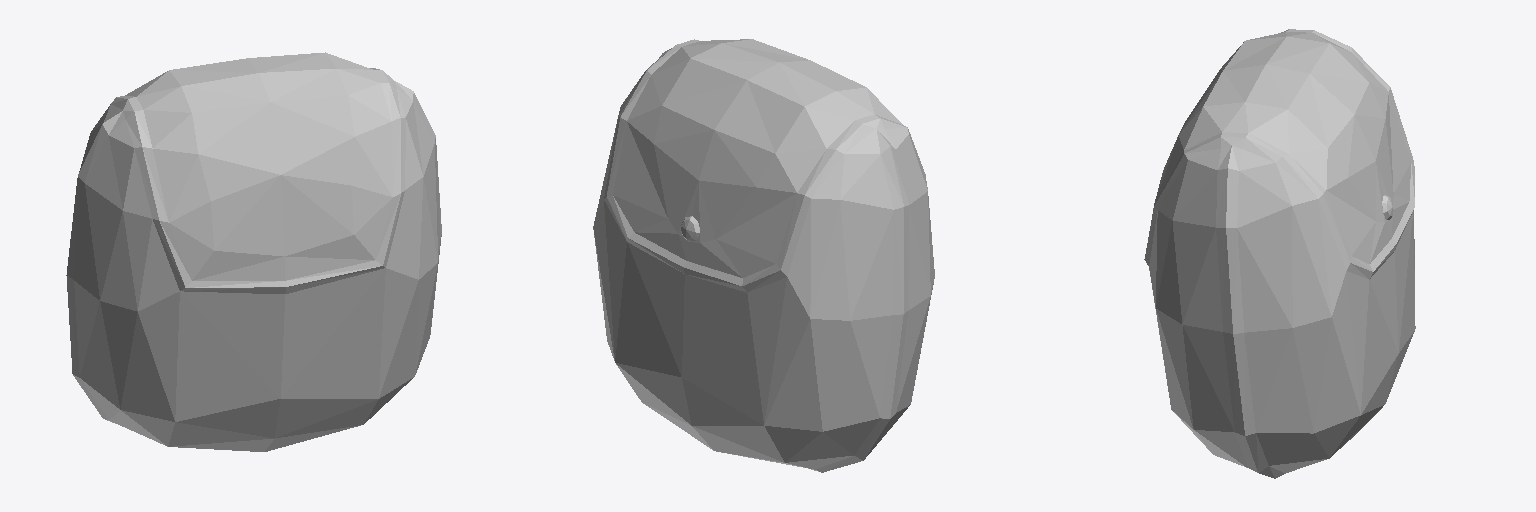
The model's file is ShikamaruBackPouch.obj.
3 views of the same model, side by side, from view 1: azimuth 30°, elevation 25°; view 2: azimuth 150°, elevation 25°; view 3: azimuth 270°, elevation 25° (orthographic).
Visible parts, largest first — view 1: 5_+Backpack.Backpack_1_0_0; view 2: 5_+Backpack.Backpack_1_0_0; view 3: 5_+Backpack.Backpack_1_0_0.
Part boxes in pixels (bbox=[...]): 5_+Backpack.Backpack_1_0_0: bbox=[66, 52, 441, 451]; 5_+Backpack.Backpack_1_0_0: bbox=[593, 39, 934, 472]; 5_+Backpack.Backpack_1_0_0: bbox=[1144, 29, 1415, 478].
Size of the model in its own units: 0.1552 by 0.1726 by 0.112.